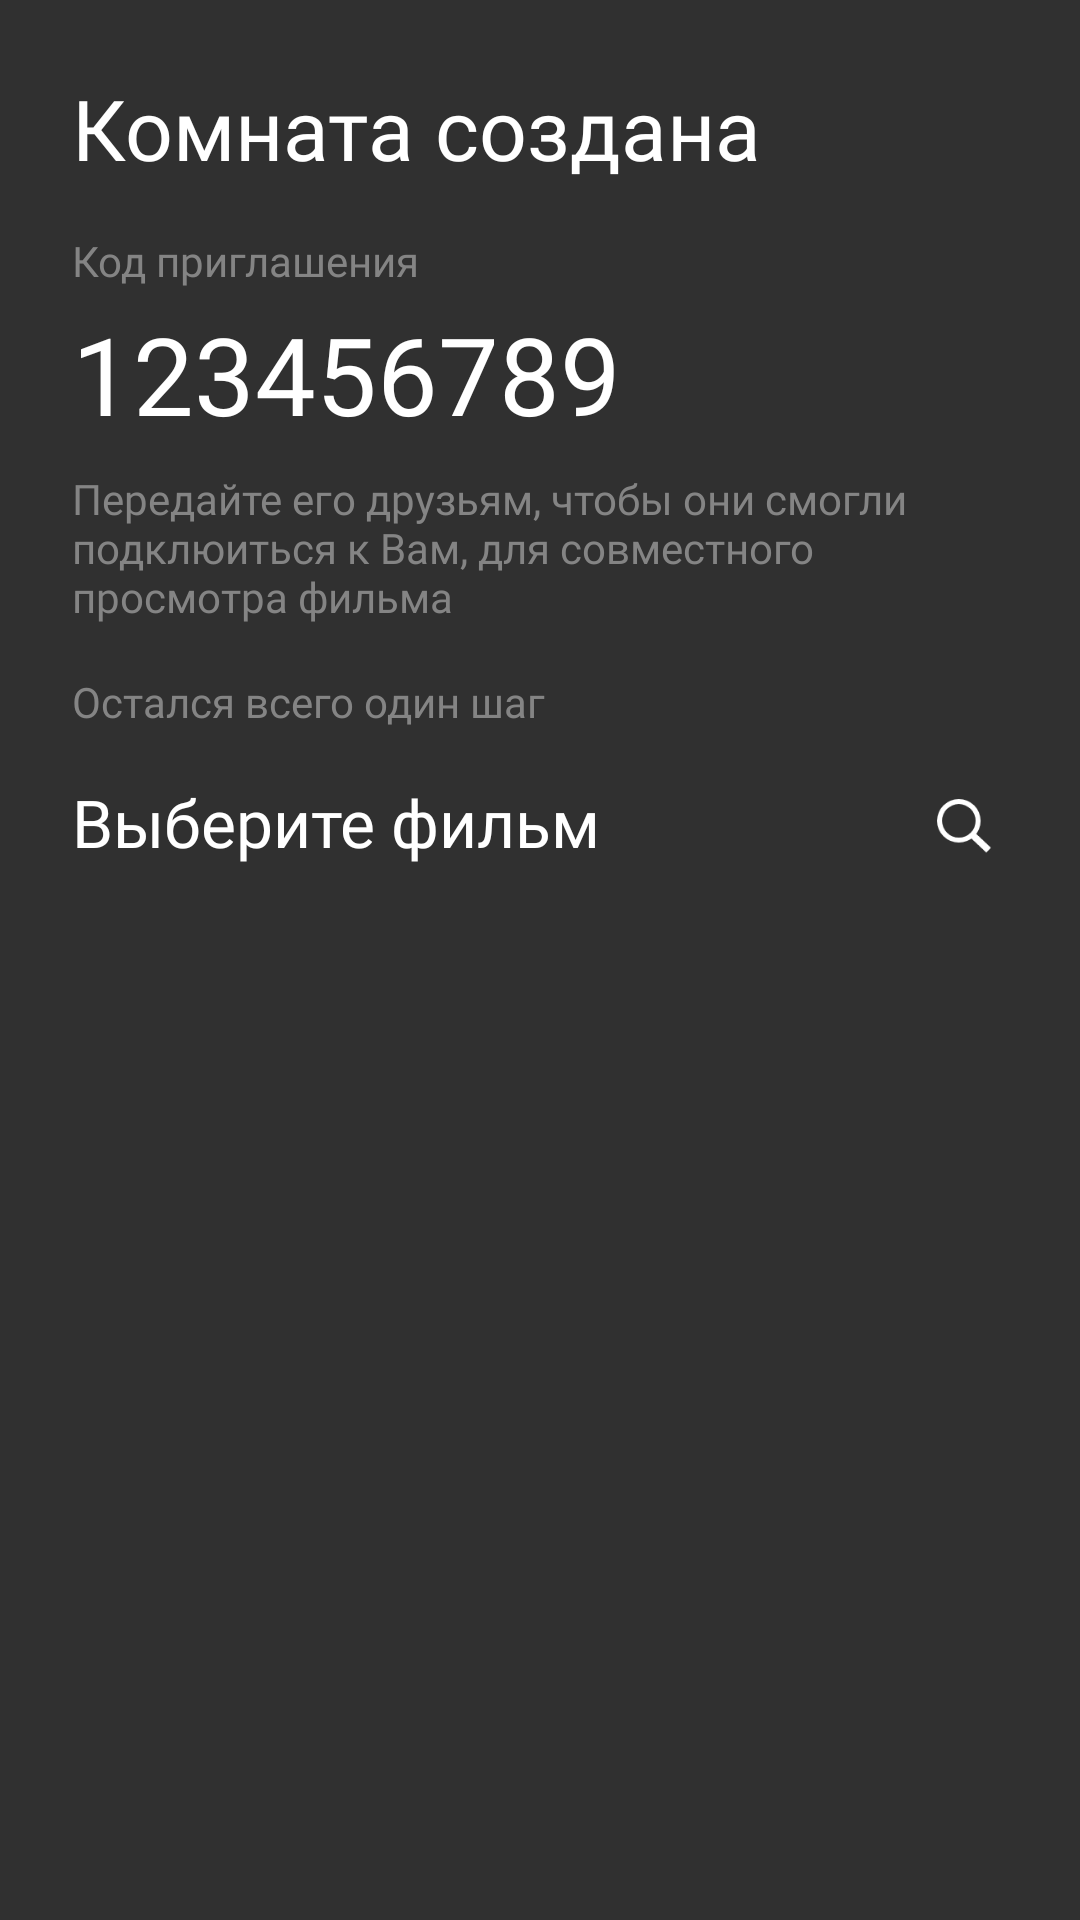

Named icons in this screenshot (1080 x 1920) and their centers, (x,y):
search: (964,826)
